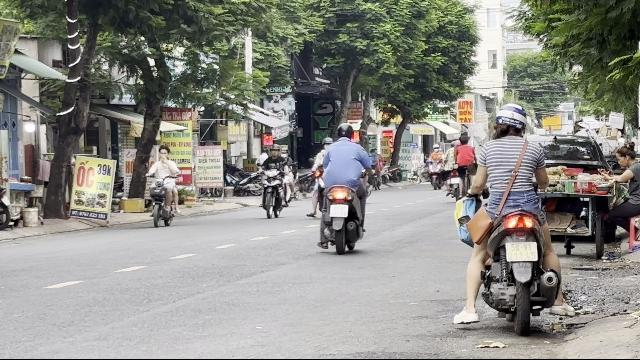helmet: (492, 102, 528, 138), (336, 122, 354, 140)
licenseplate: (507, 242, 537, 262), (330, 204, 348, 218)
motorcyclist: (454, 100, 570, 332), (307, 121, 371, 253), (144, 144, 182, 228)
nohelmet: (158, 144, 170, 160)
